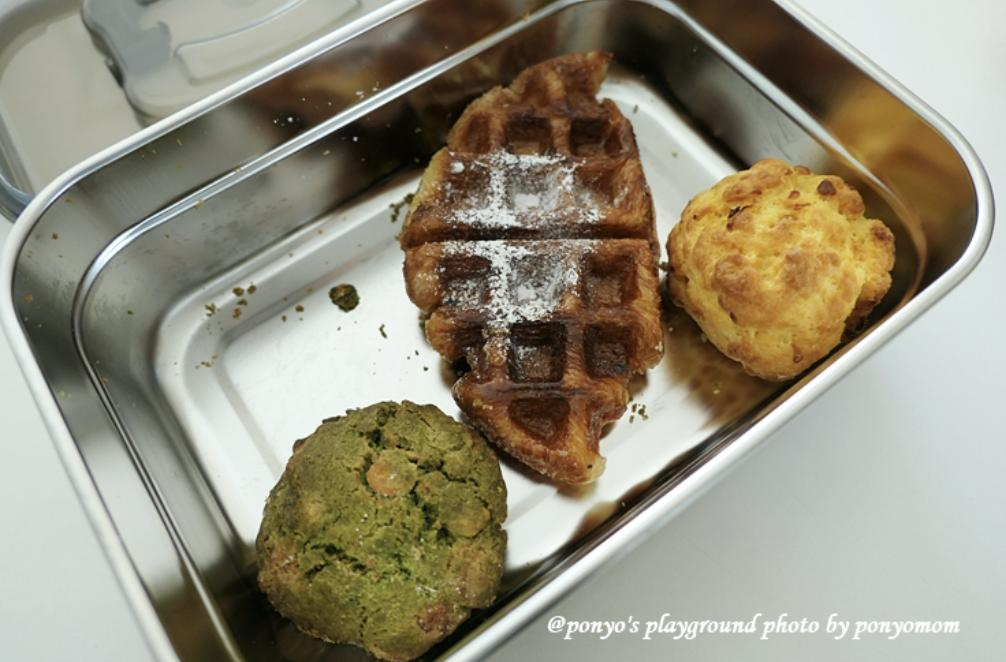Lunch Box: (0, 0, 991, 661)
